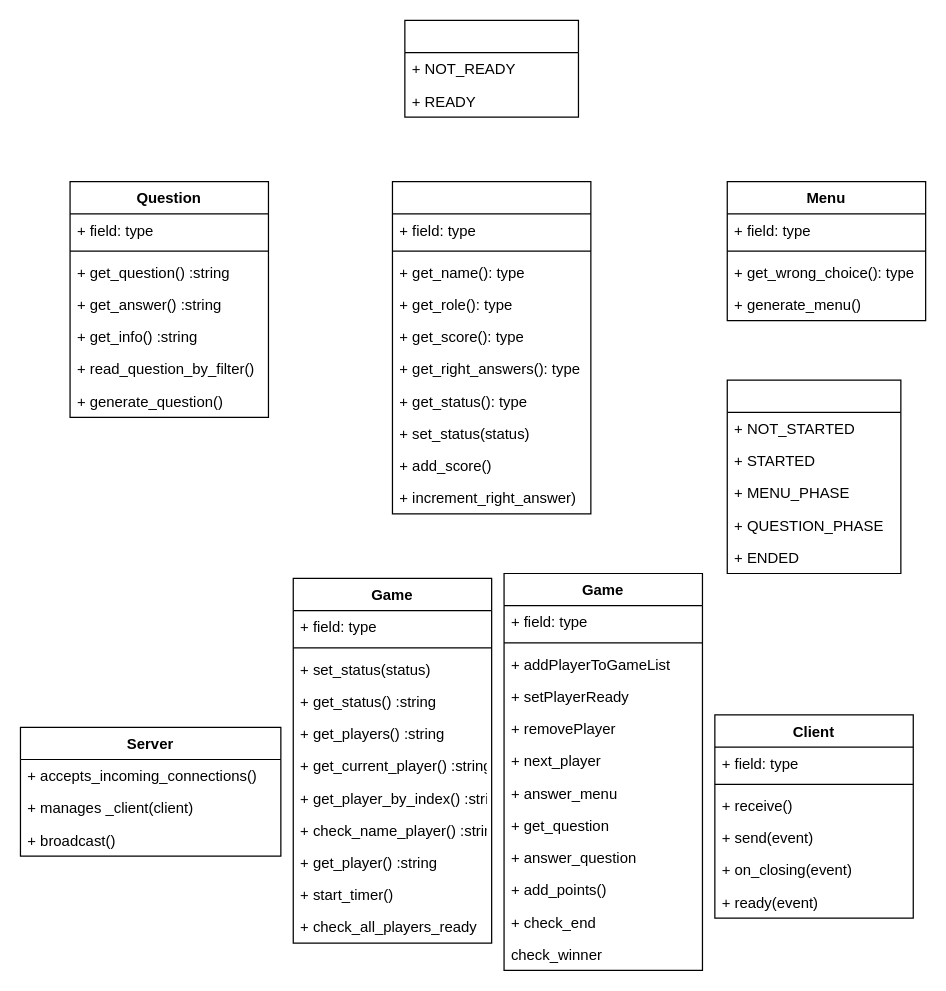
This 946x991 diagram has some shape labels left out. Each missing label, with the box of its shape:
GameStatus: (726, 379, 901, 574)
Player: (391, 180, 591, 514)
PlayerStatus: (404, 19, 578, 117)
